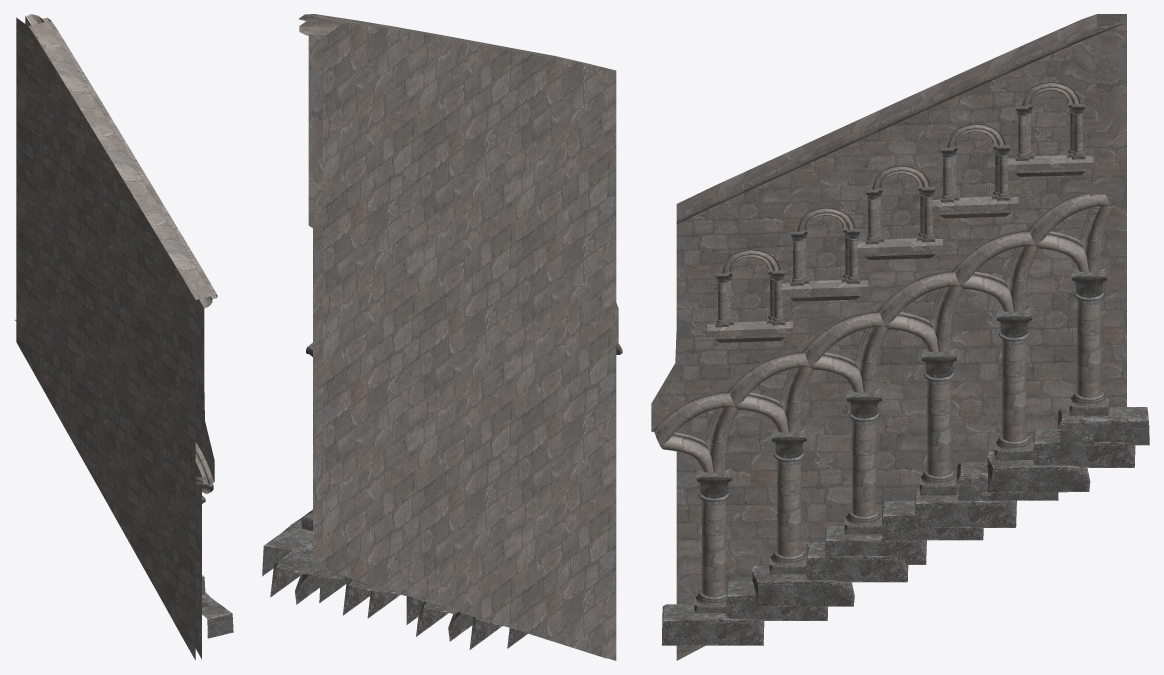
The picture shows the model from 3 angles, left to right: view 1: azimuth 30°, elevation 25°; view 2: azimuth 150°, elevation 25°; view 3: azimuth 270°, elevation 25°; orthographic projection. The views are drawn at different scales.
Parts seen in each view (by area): view 1: SM_DungeonStairwayWall_LOD0; view 2: SM_DungeonStairwayWall_LOD0; view 3: SM_DungeonStairwayWall_LOD0.
Part boxes in pixels (left/top/right/bottom): SM_DungeonStairwayWall_LOD0: left=15, top=14, right=233, bottom=660; SM_DungeonStairwayWall_LOD0: left=262, top=14, right=622, bottom=660; SM_DungeonStairwayWall_LOD0: left=651, top=14, right=1149, bottom=660.
Bounding box in the file's own units: 0.6279 × 9.46 × 6.64.
2 materials, 2 textured.
